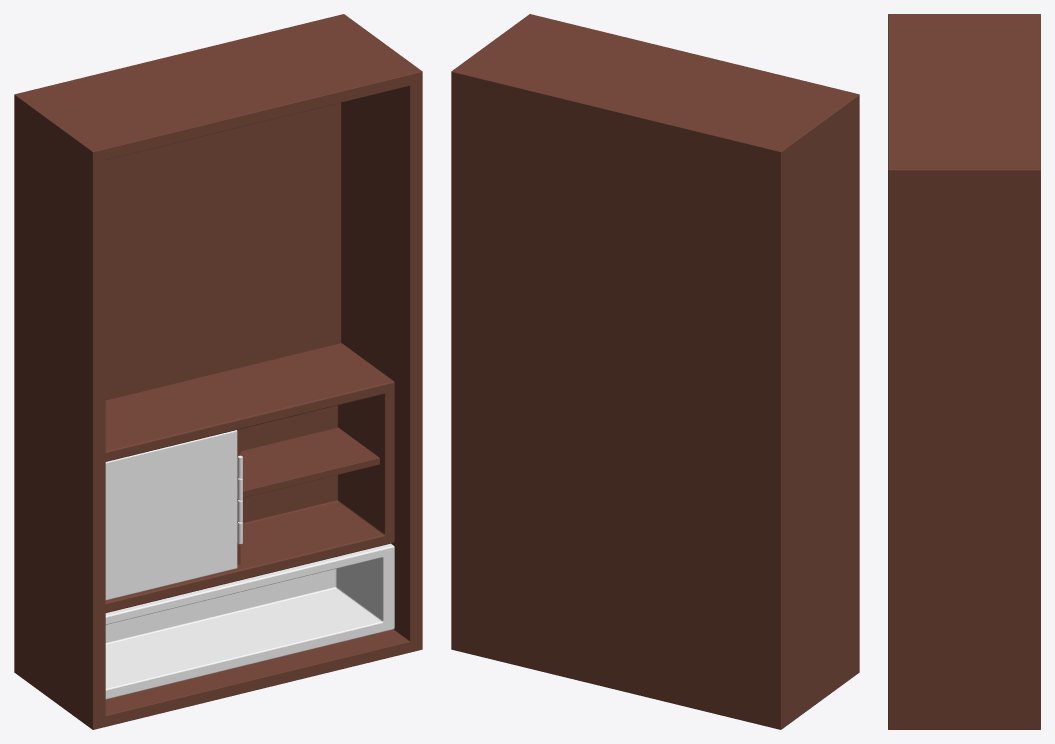
Rendered from cupboard.glb.
3 renders of one model, left to right at view 1: azimuth 30°, elevation 25°; view 2: azimuth 150°, elevation 25°; view 3: azimuth 270°, elevation 25°, orthographic. The views are drawn at different scales.
Parts seen in each view (by area): view 1: Cube, Cube.002, Cube.006, Cube.008, Cube.001; view 2: Cube; view 3: Cube.
Part boxes in pixels (bbox=[...]): Cube: bbox=[14, 14, 422, 729]; Cube.002: bbox=[105, 343, 394, 612]; Cube.006: bbox=[105, 543, 394, 699]; Cube.008: bbox=[105, 430, 237, 600]; Cube.001: bbox=[237, 427, 379, 498]; Cube: bbox=[451, 14, 859, 729]; Cube: bbox=[888, 14, 1040, 729].
Bounding box in the file's own units: 3.12 × 5.22 × 1.29.
